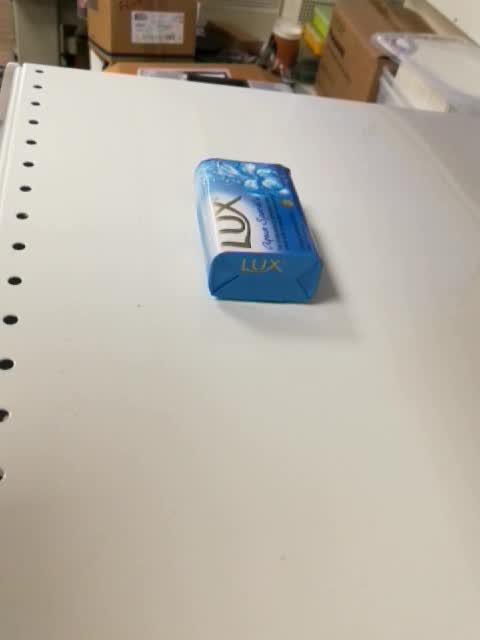soap: (190, 156, 323, 308)
